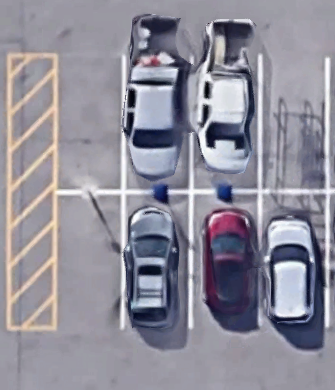Occupied: (191, 56, 260, 192), (122, 191, 191, 327), (123, 55, 191, 192), (190, 192, 260, 325), (259, 191, 327, 327)
Vacant: (56, 55, 124, 193), (260, 56, 329, 192), (56, 192, 122, 329)
